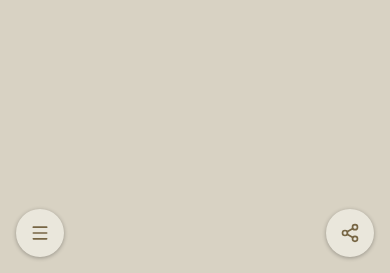
Test: FloatingToolbar › меню подсвечивает текущий экран
Click the button named "Меню" at (40, 233), box x1=16 y1=209 x2=64 y2=257
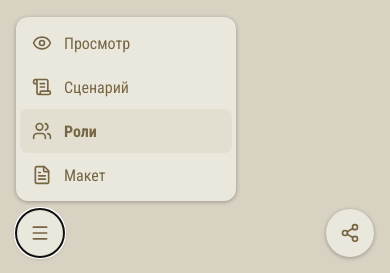
Check: the button "Роли" is shown, box x1=20 y1=109 x2=232 y2=153
